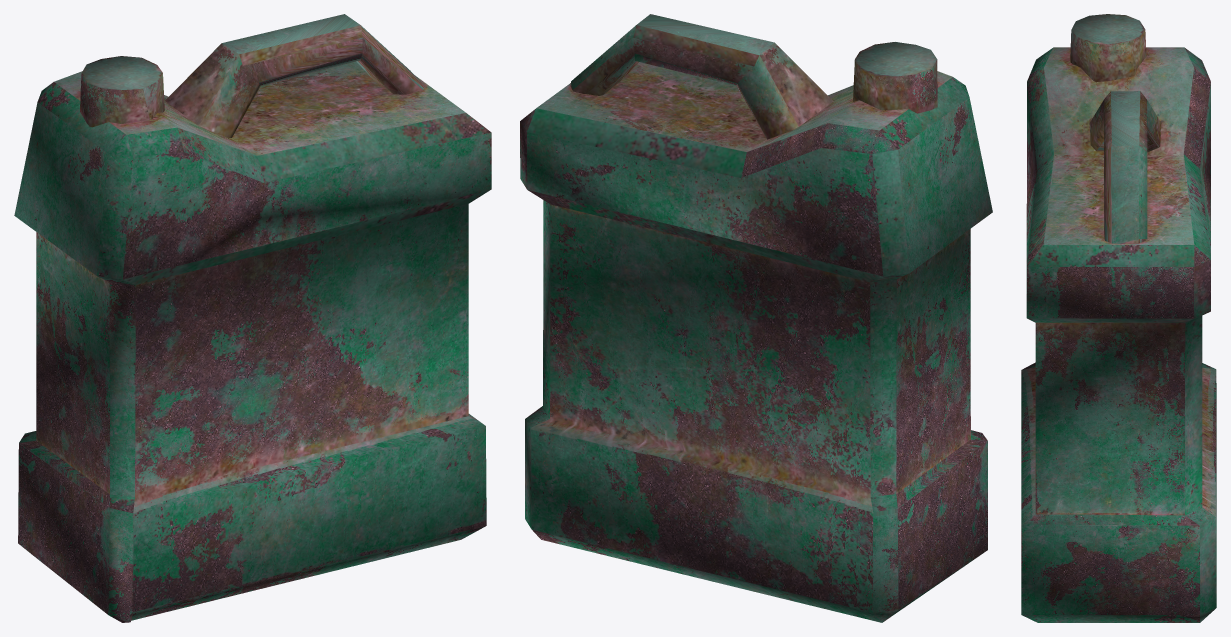
File: Gas_Can_2.fbx
3 renders of one model, left to right at view 1: azimuth 30°, elevation 25°; view 2: azimuth 150°, elevation 25°; view 3: azimuth 270°, elevation 25°, orthographic. The views are drawn at different scales.
Visible parts, largest first — view 1: 2Gas_Can_LOD0; view 2: 2Gas_Can_LOD0; view 3: 2Gas_Can_LOD0.
Boxes of the visible parts, x1,y1,x2,y2 form: 2Gas_Can_LOD0: [14, 14, 491, 622]; 2Gas_Can_LOD0: [520, 14, 992, 622]; 2Gas_Can_LOD0: [1021, 14, 1216, 622].
Size of what is drawn, in the model's own units: 78.61 by 99.85 by 38.31.
